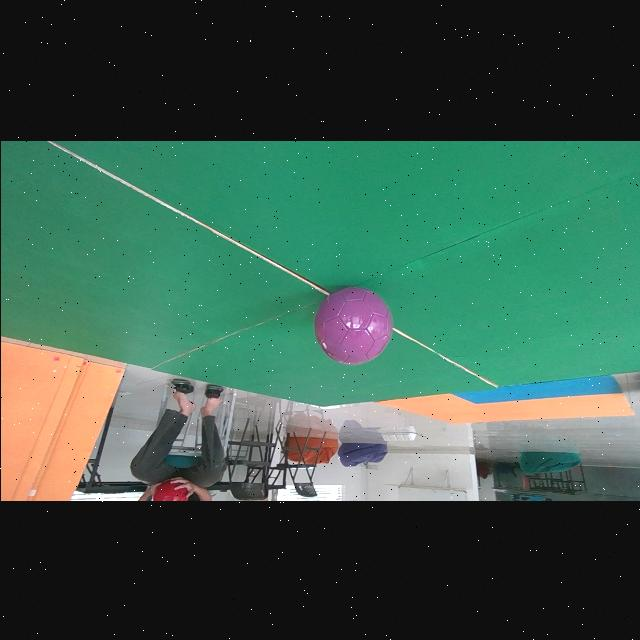P: (313, 286, 392, 365)
R: (150, 479, 187, 500)
